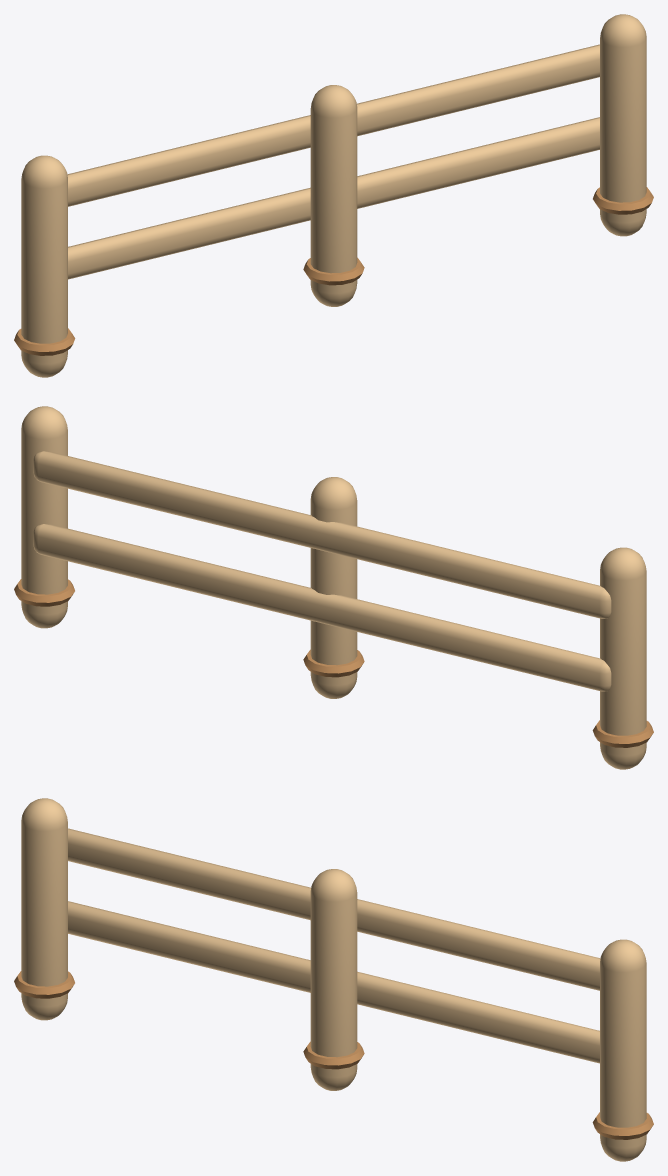
File: hub_fence.glb
3 views of the same model, one above another, from view 1: azimuth 30°, elevation 25°; view 2: azimuth 150°, elevation 25°; view 3: azimuth 330°, elevation 25° (orthographic).
Visible parts, largest first — view 1: HubFence; view 2: HubFence; view 3: HubFence.
Boxes of the visible parts, x1,y1,x2,y2 form: HubFence: [14, 14, 653, 377]; HubFence: [14, 406, 653, 769]; HubFence: [14, 798, 653, 1161].
Size of the model in its own units: 2.18 by 0.72 by 0.1797.
